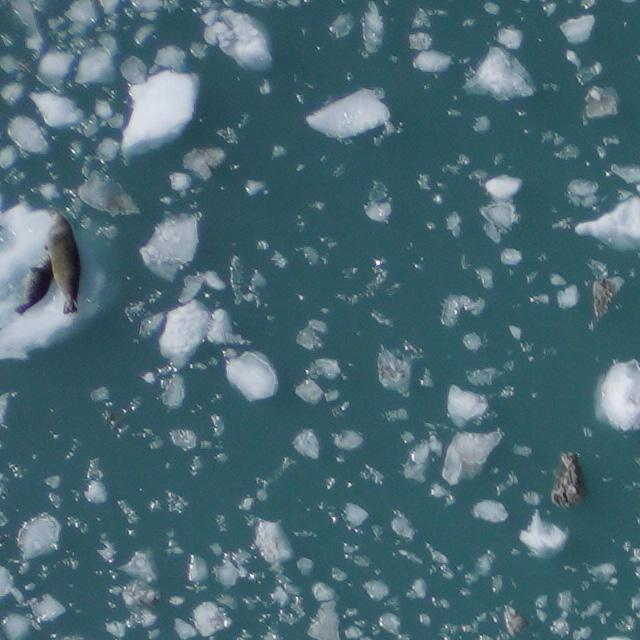seal: (37, 211, 91, 318), (12, 257, 58, 323)
